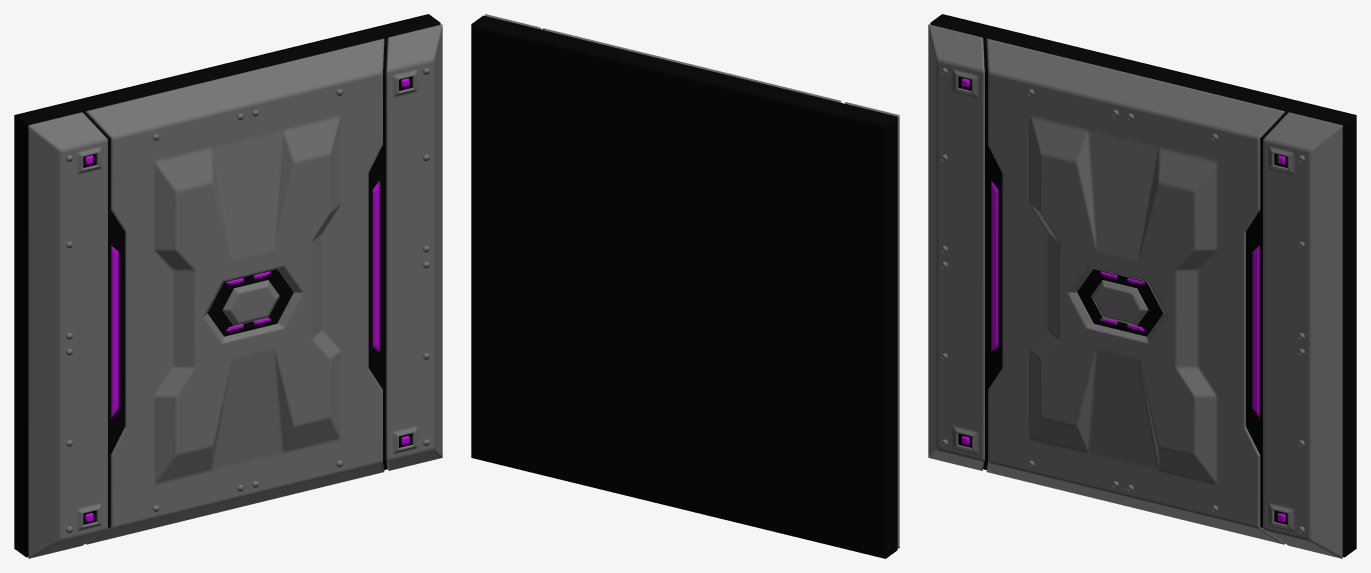
The model's file is sifi2.5.fbx.
The picture shows the model from 3 angles, left to right: view 1: azimuth 30°, elevation 25°; view 2: azimuth 150°, elevation 25°; view 3: azimuth 330°, elevation 25°; orthographic projection.
Visible parts, largest first — view 1: SciFi_Panel_001; view 2: SciFi_Panel_001; view 3: SciFi_Panel_001.
Boxes of the visible parts, box(x1,y1,x2,y2) form: SciFi_Panel_001: box(14, 14, 442, 558); SciFi_Panel_001: box(471, 14, 899, 558); SciFi_Panel_001: box(928, 14, 1356, 558).
Size of the model in its own units: 200 by 200 by 26.73.
